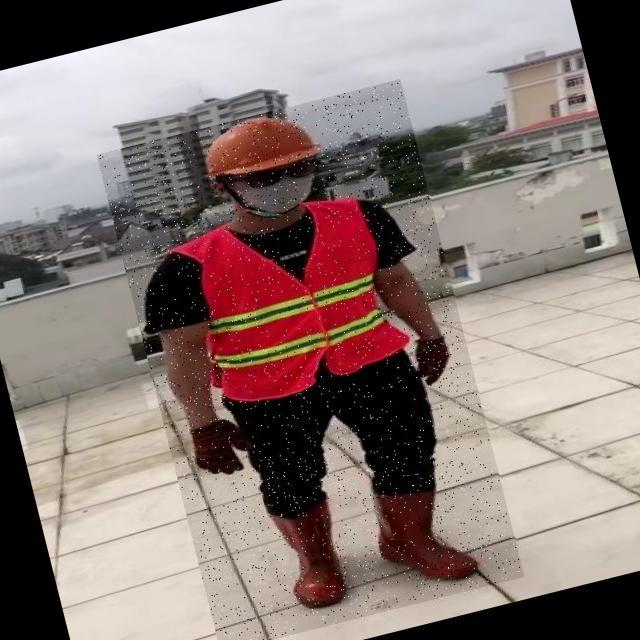Gloves: (187, 416, 260, 483), (416, 339, 459, 387)
Helmet: (187, 102, 330, 192)
Human: (97, 78, 526, 640)
Safety Boot: (370, 474, 482, 599), (273, 505, 355, 620)
Safety Vest: (167, 193, 409, 411)
